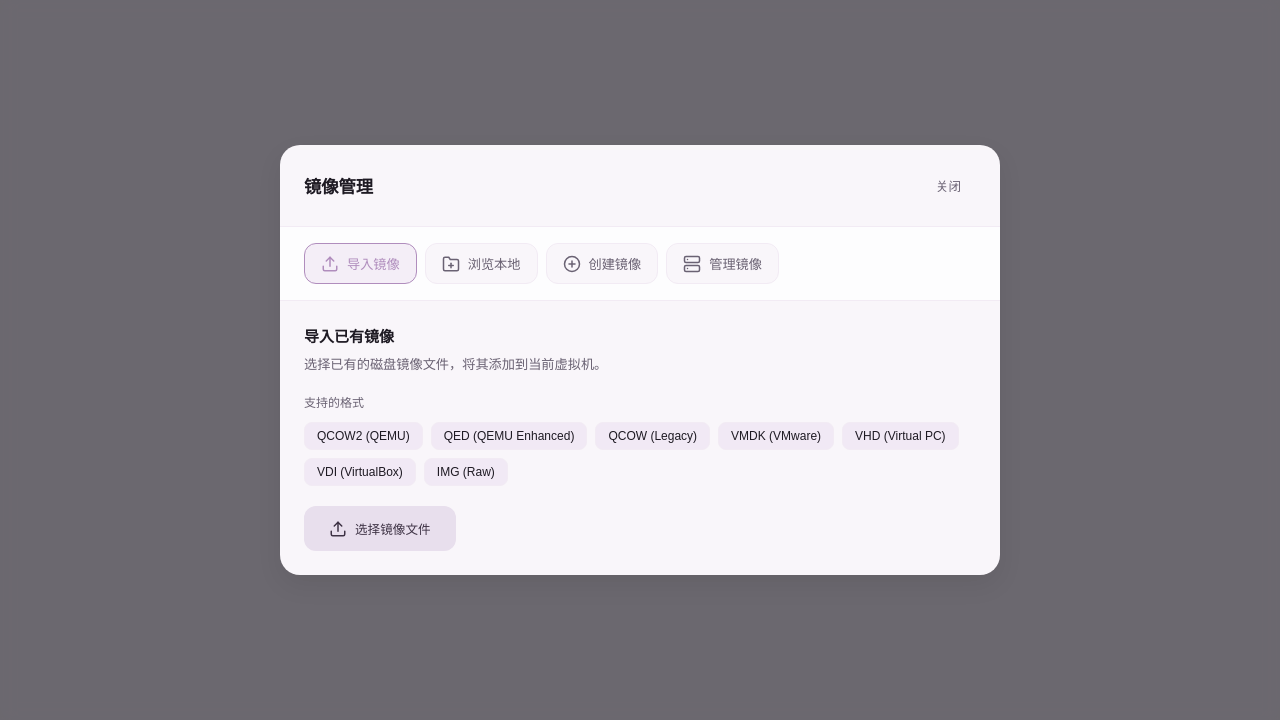
Test case: DiskImageManager import › shows a success notice with a circled check after importing an image
Click the button "选择镜像文件" at (380, 528), box [304,506,456,551]
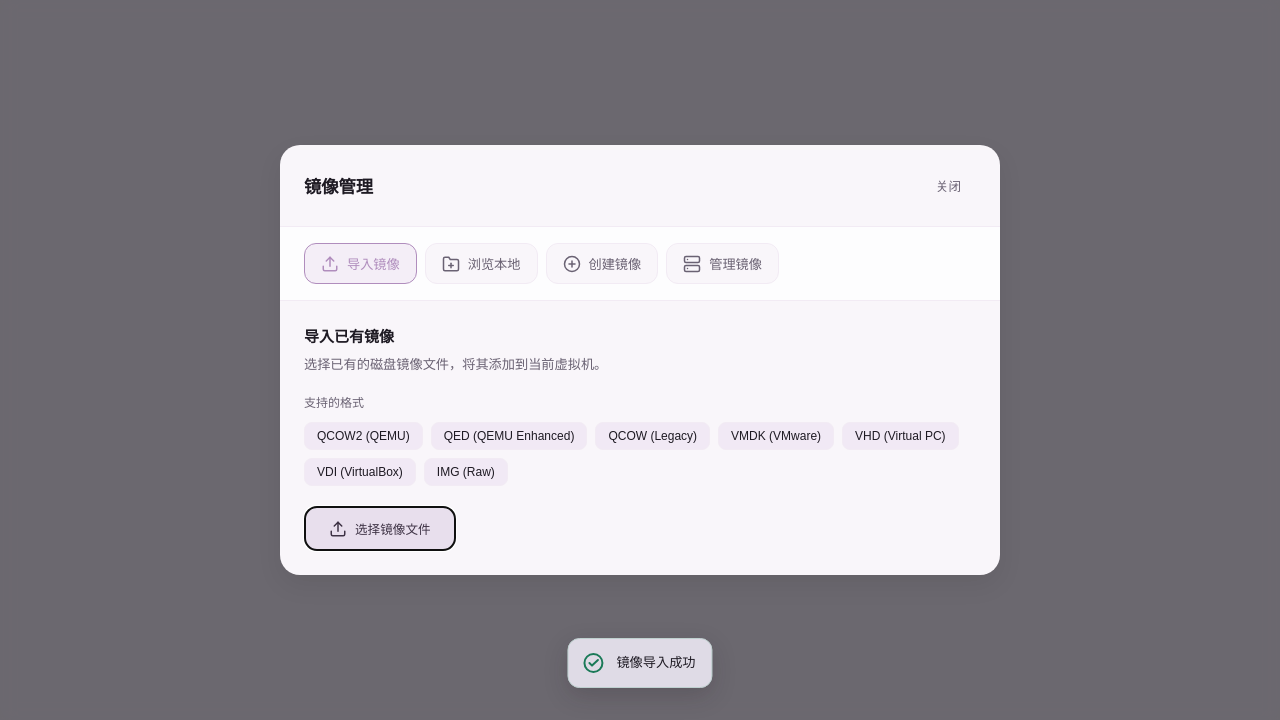
Now the message reads "镜像导入成功", box [616,655,696,670]
